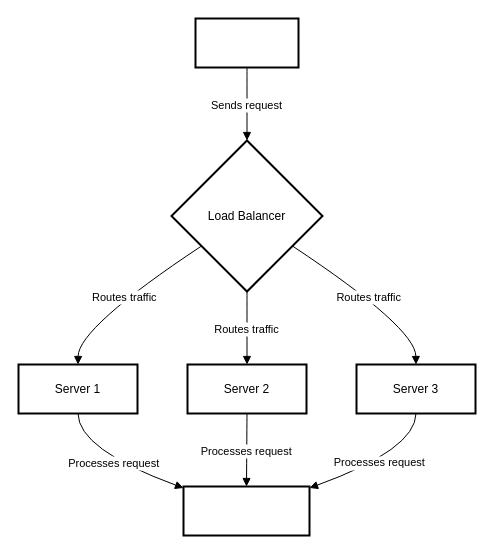
Image size: 493x553. Some labels were removed from this diagram. The shapes that lost their labels are listed below. From the top down, each one's box as (x1, y1, x2, y2) in pixels, then its label:
(194, 17, 299, 68): Client
(182, 485, 310, 536): Database
